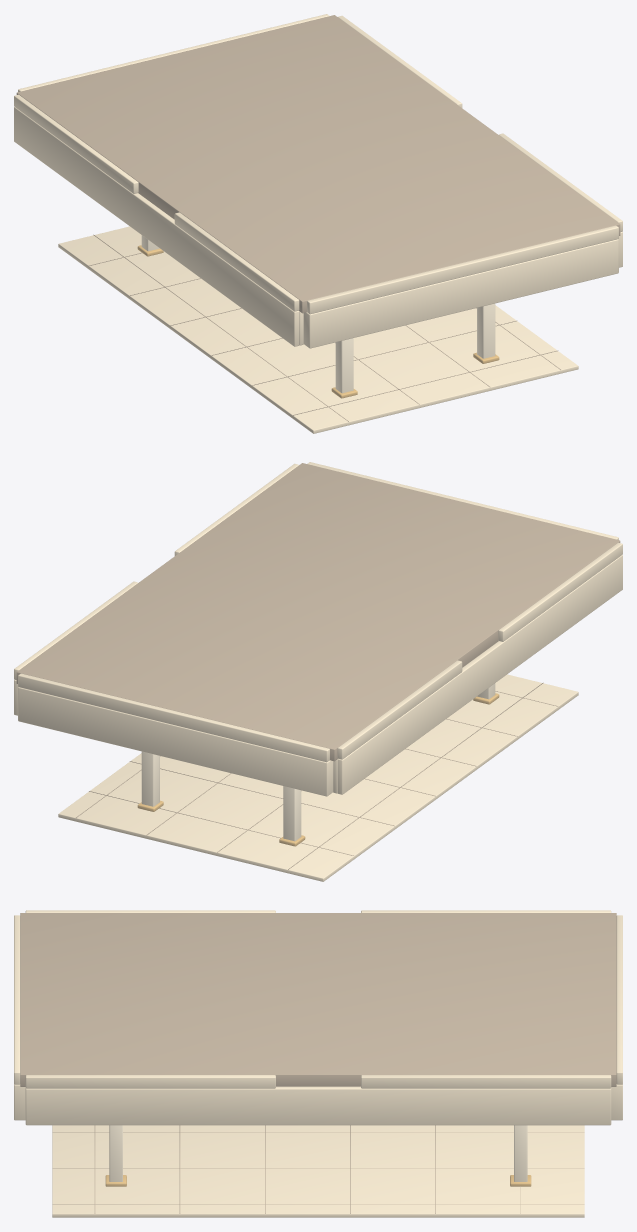
File: castle_district_forge_purified.glb
3 views of the same model, one above another, from view 1: azimuth 30°, elevation 25°; view 2: azimuth 150°, elevation 25°; view 3: azimuth 270°, elevation 25° (orthographic). The views are drawn at different scales.
Parts seen in each view (by area): view 1: castle_district_forge_purified_surface; view 2: castle_district_forge_purified_surface; view 3: castle_district_forge_purified_surface.
Boxes of the visible parts, left/top/right/bottom form: castle_district_forge_purified_surface: left=14, top=14, right=622, bottom=433; castle_district_forge_purified_surface: left=14, top=462, right=622, bottom=881; castle_district_forge_purified_surface: left=14, top=910, right=622, bottom=1217.
Bounding box in the file's own units: 18.6 × 8.12 × 28.6.
